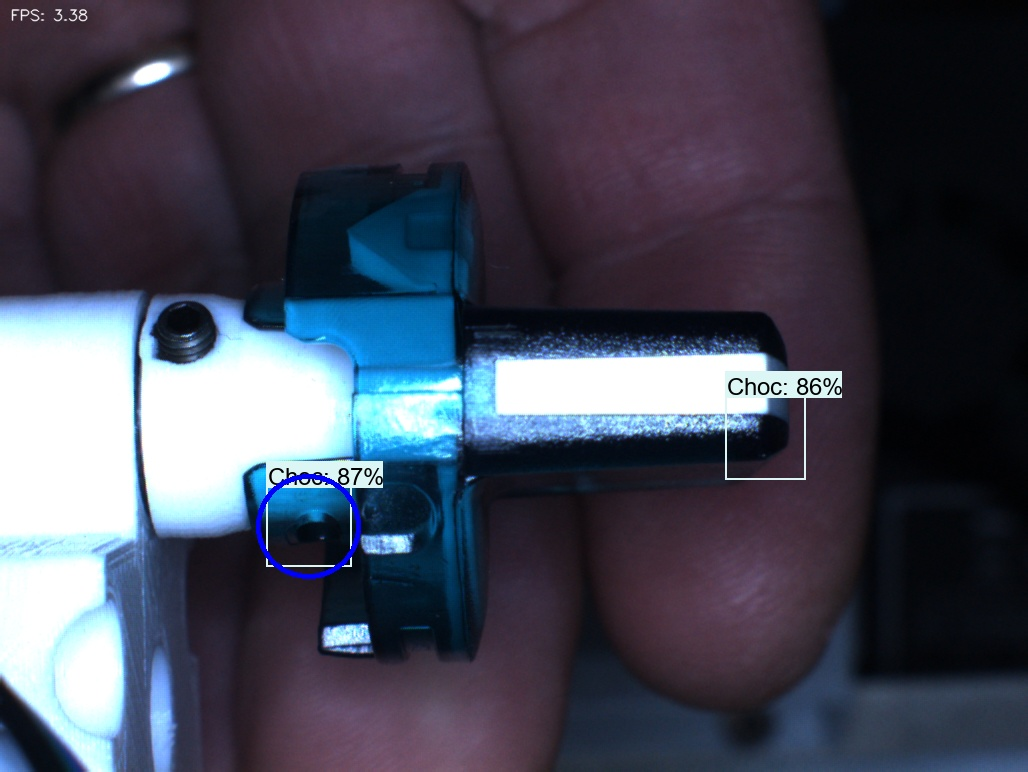DentOk: (323, 197, 390, 284)
